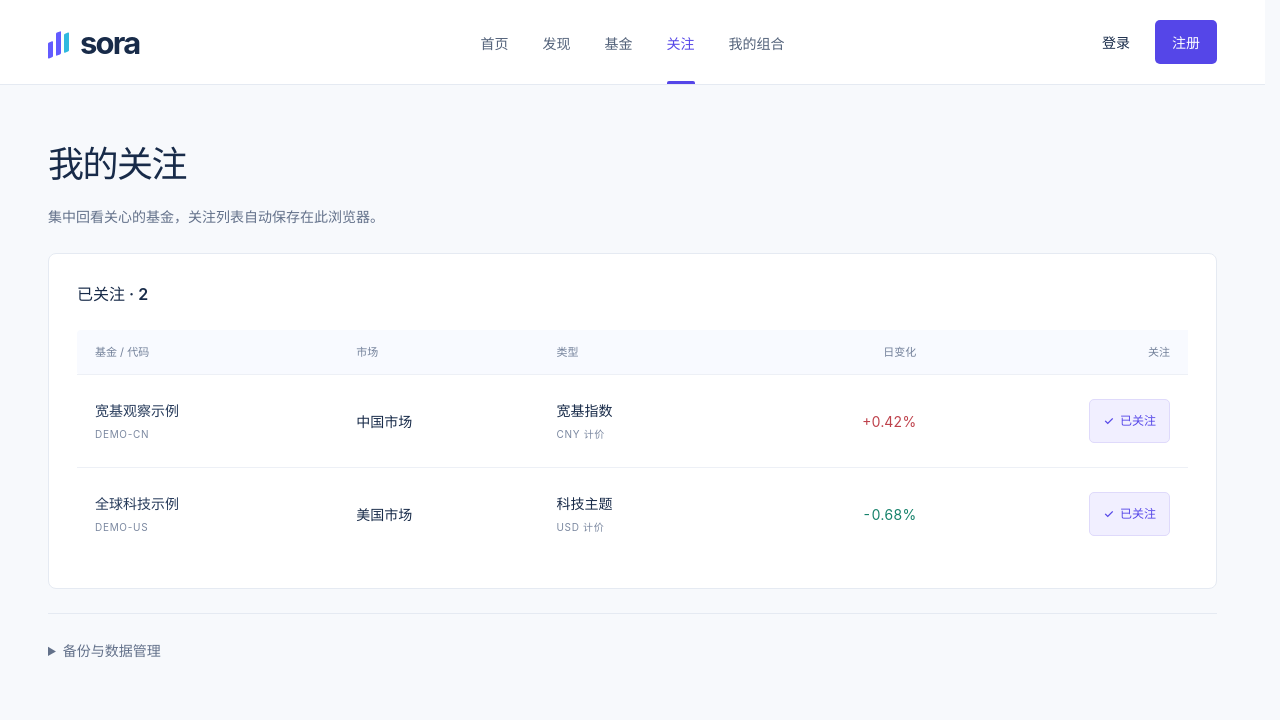
it: M0 routes › shows only watched funds and calculates portfolio totals
The width and height of the screenshot is (1280, 720).
expect the link "宽基观察示例" is shown: met, box [95, 402, 179, 420]
Step 1. Click the link "我的组合" → click(756, 43), box [728, 34, 784, 52]
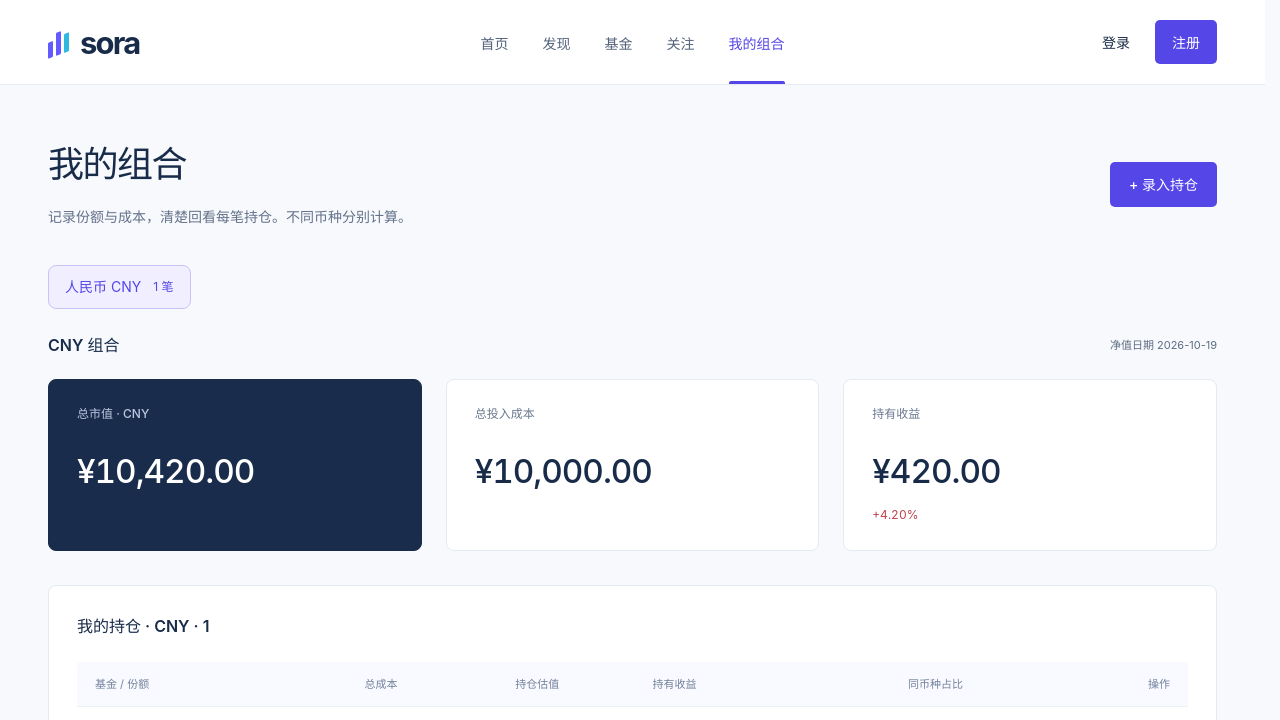
expect the text "¥10,420.00" is shown: met, box [77, 451, 254, 491]
expect the text "+4.20%" is shown: met, box [872, 506, 918, 524]
